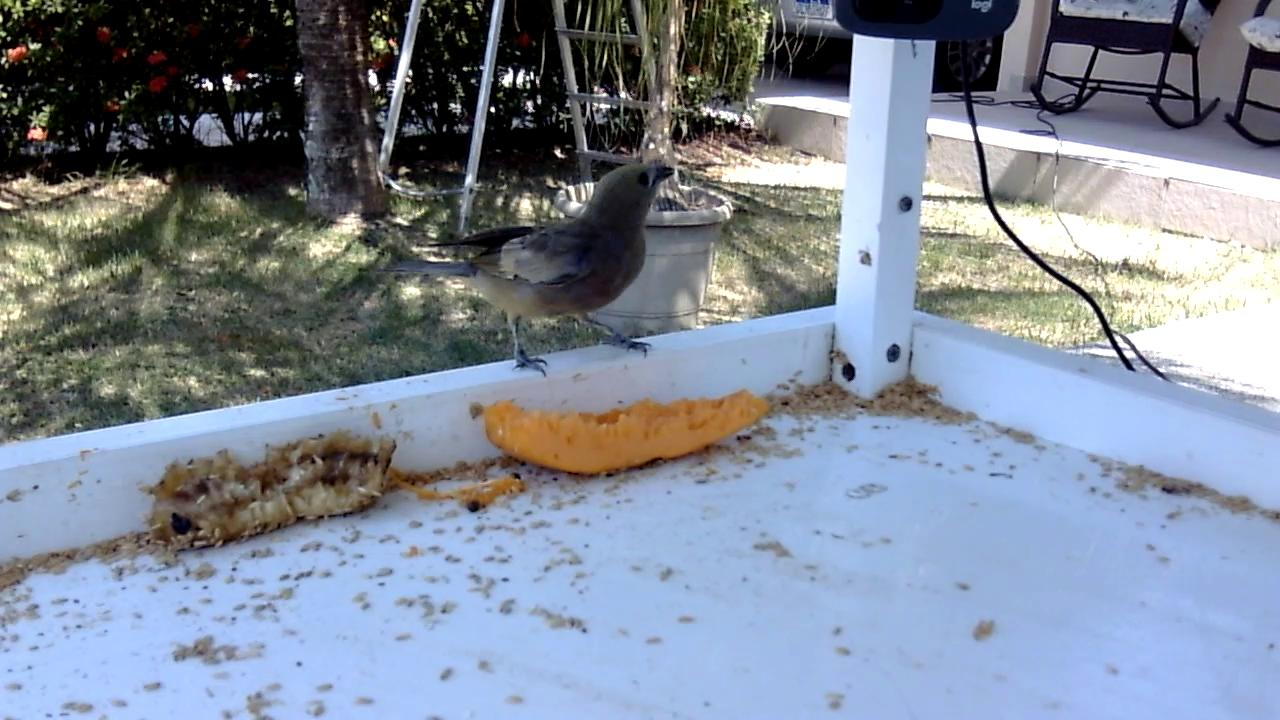sanhaco_do_coqueiro: (356, 162, 679, 383)
